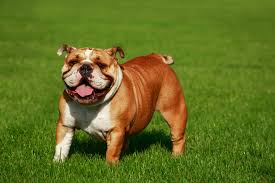Bulldog: (41, 29, 197, 165)
